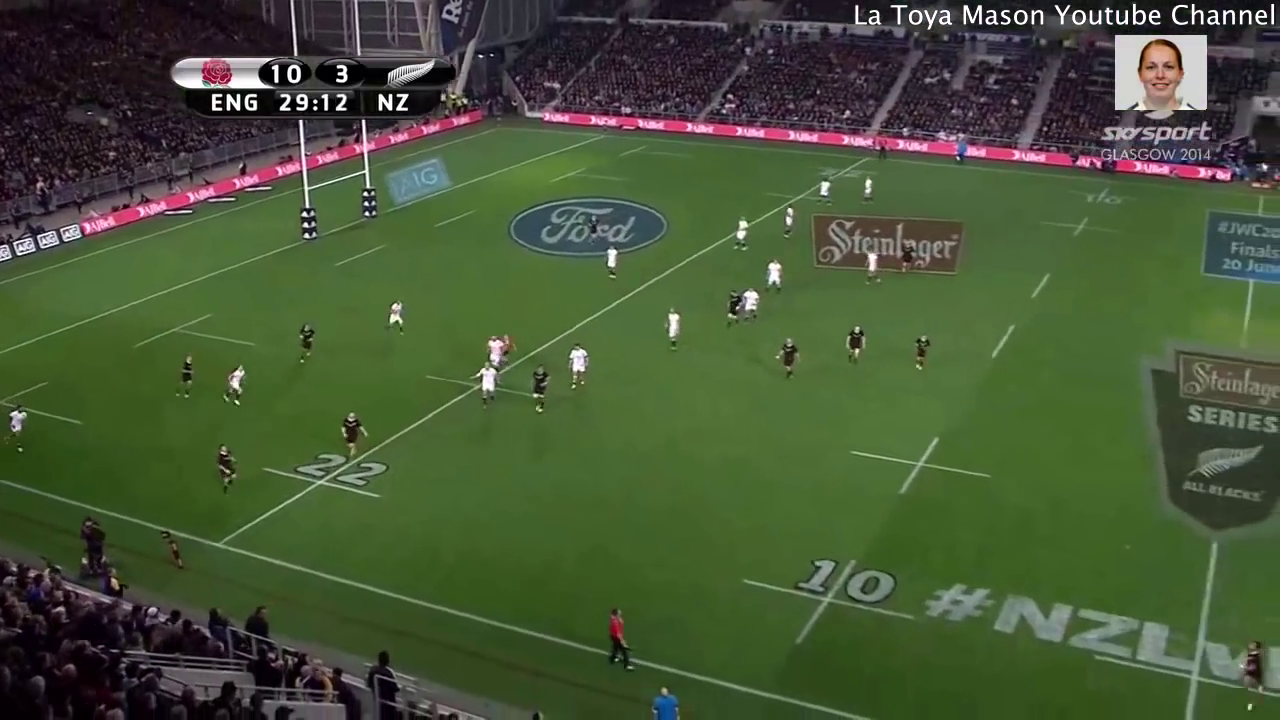10_metre: (739, 552, 919, 660), (845, 424, 997, 511), (1047, 212, 1121, 242), (1062, 184, 1138, 211)
player: (213, 439, 245, 502), (772, 333, 808, 386), (170, 350, 205, 404), (337, 401, 367, 464), (1, 400, 33, 457), (565, 340, 593, 397), (219, 360, 250, 411), (843, 324, 876, 370), (471, 362, 503, 406), (525, 360, 550, 416), (294, 320, 322, 368), (658, 308, 688, 351), (907, 334, 934, 380), (379, 299, 409, 338), (813, 172, 840, 212), (761, 259, 787, 300), (858, 170, 881, 213), (721, 287, 745, 328), (896, 239, 919, 281), (742, 288, 763, 326), (579, 211, 603, 244), (730, 214, 750, 253), (479, 336, 507, 362), (780, 204, 796, 239), (604, 246, 622, 277), (501, 332, 515, 361)
post: (287, 121, 384, 249)
